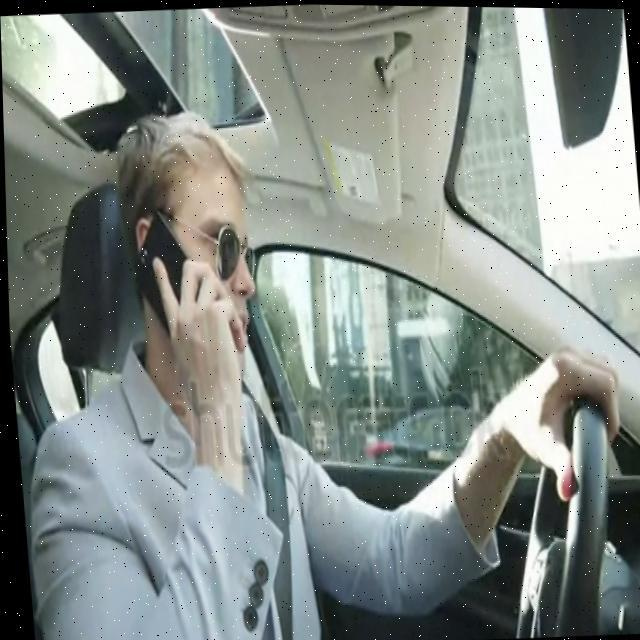PhoneCall: (131, 206, 211, 355)
